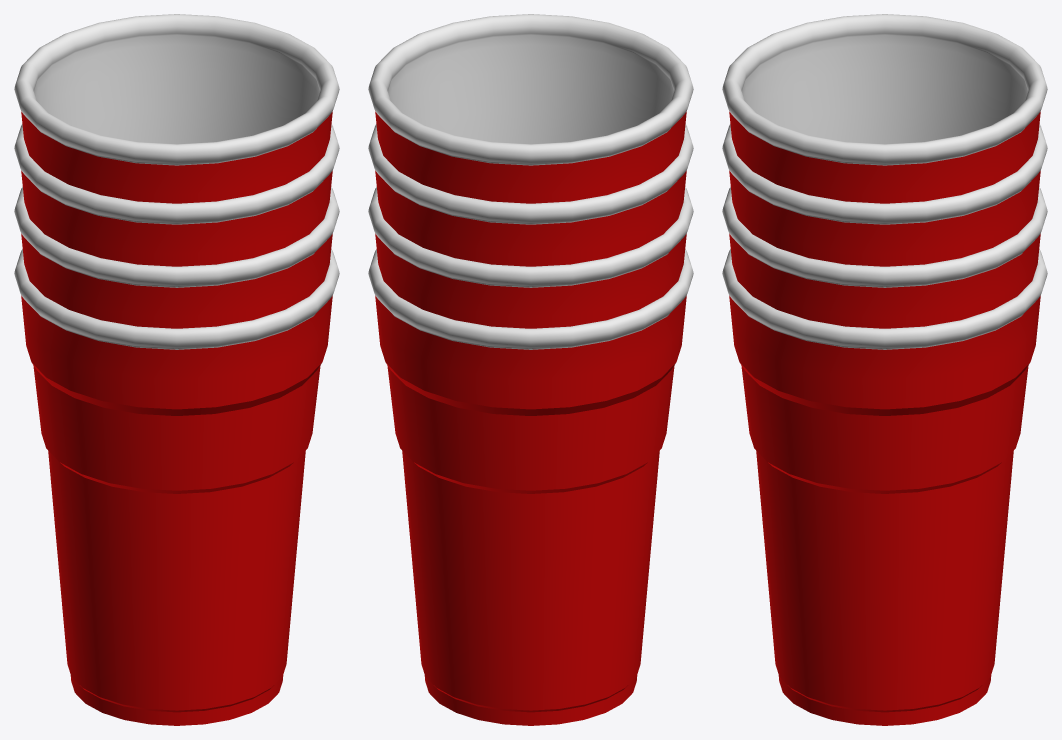
File: solocup2.fbx
The picture shows the model from 3 angles, left to right: view 1: azimuth 30°, elevation 25°; view 2: azimuth 150°, elevation 25°; view 3: azimuth 270°, elevation 25°; orthographic projection.
Parts seen in each view (by area): view 1: pCylinder1, pCylinder5, pCylinder4, pCylinder3; view 2: pCylinder1, pCylinder5, pCylinder4, pCylinder3; view 3: pCylinder1, pCylinder5, pCylinder4, pCylinder3.
Part boxes in pixels (x1,y1,x2,y2): pCylinder1: (14,249,339,725); pCylinder5: (14,14,339,203); pCylinder4: (14,124,339,266); pCylinder3: (14,187,339,328); pCylinder1: (368,249,693,725); pCylinder5: (368,14,693,203); pCylinder4: (368,124,693,266); pCylinder3: (368,187,693,328); pCylinder1: (722,249,1047,725); pCylinder5: (722,14,1047,203); pCylinder4: (722,124,1047,266); pCylinder3: (722,187,1047,328).
Bounding box in the file's own units: 4.22 × 8.62 × 4.22.
